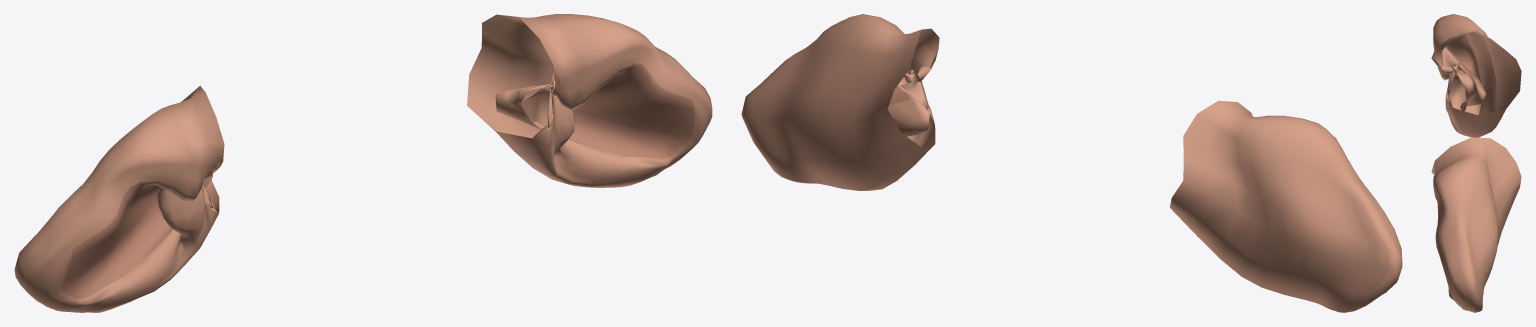
3 views of the same model, side by side, from view 1: azimuth 30°, elevation 25°; view 2: azimuth 150°, elevation 25°; view 3: azimuth 270°, elevation 25° (orthographic). The views are drawn at different scales.
Visible parts, largest first — view 1: BigEar; view 2: BigEar; view 3: BigEar.
Boxes of the visible parts, bbox=[...] form: BigEar: bbox=[14, 14, 712, 312]; BigEar: bbox=[741, 14, 1402, 312]; BigEar: bbox=[1431, 14, 1521, 312].
Size of the model in its own units: 1.21 by 0.3219 by 0.1988.
